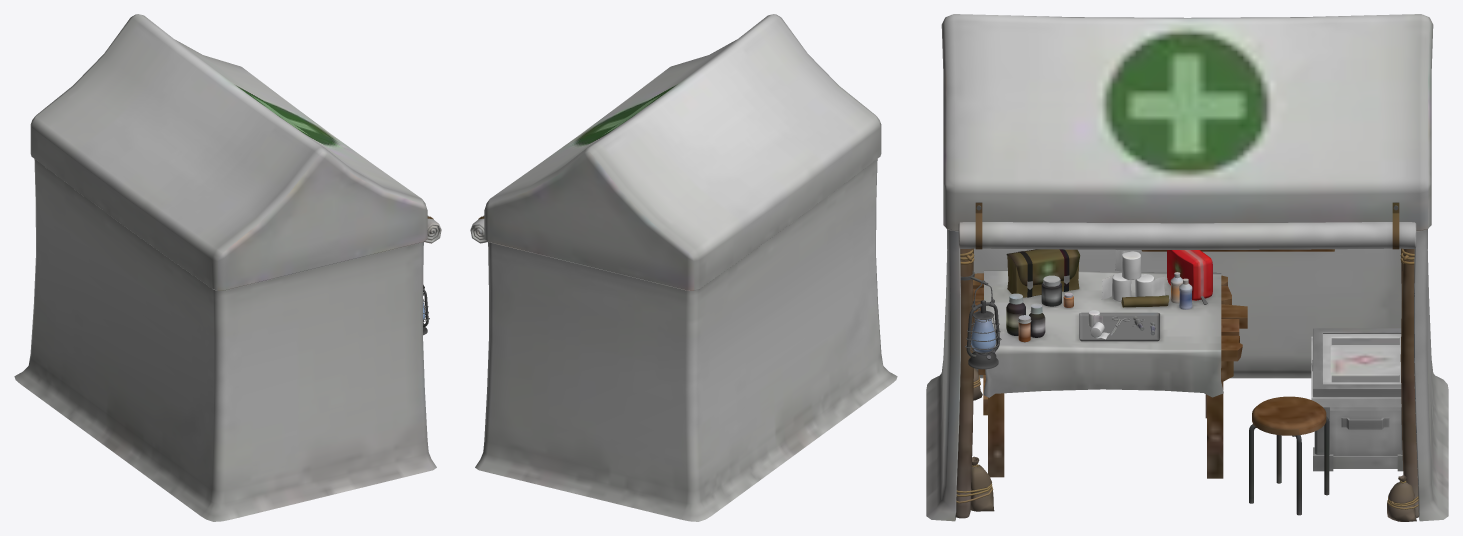
Rendered from SM_Infirmary_5a70ed.glb.
The picture shows the model from 3 angles, left to right: view 1: azimuth 30°, elevation 25°; view 2: azimuth 150°, elevation 25°; view 3: azimuth 270°, elevation 25°; orthographic projection. The views are drawn at different scales.
Bounding box in the file's own units: 2.13 × 2.87 × 3.08.
2 materials, 2 textured.
